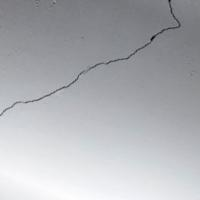crack: (0, 0, 186, 137)
